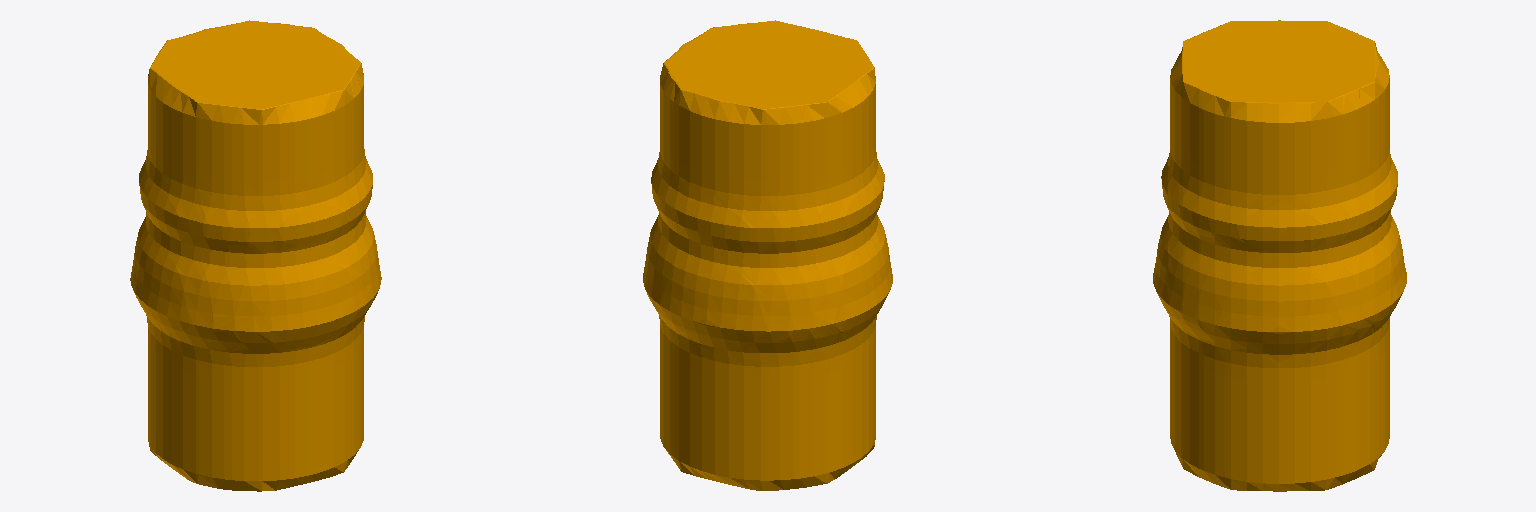
URDF robot description (cylinder_../../meshes/cylinders/cylinder_93.stl):
<?xml version="1.0" encoding="utf-8"?>  <robot name="cylinder_../../meshes/cylinders/cylinder_93.stl">   <link name="cylinder_../../meshes/cylinders/cylinder_93.stl">     <visual>       <geometry>         <mesh filename="../meshes/cylinders/cylinder_93.stl" scale="1 1 1"/>       </geometry>     </visual>     <collision>       <geometry>         <mesh filename="../meshes/cylinders/cylinder_93.stl" scale="1 1 1"/>       </geometry>     </collision>     <inertial>        <origin         xyz="0 0 0"         rpy="0 0 0" />       <mass value="0.5305589763157378"/>       <origin rpy="0 0 0" xyz="0 0 0"/>       <inertia ixx="0.0009227182282626991" ixy="1.054688341840124e-09" ixz="-1.4533150088451856e-08" iyy="0.0009227178327865238" iyz="-6.188332392801312e-09" izz="0.0003353019590793706"/>     </inertial>   </link>  </robot>

--- Facts derived from the render (not from the file) ---
The picture shows the robot from 3 angles, left to right: view 1: azimuth 30°, elevation 25°; view 2: azimuth 150°, elevation 25°; view 3: azimuth 270°, elevation 25°; orthographic projection.
Model cylinder_../../meshes/cylinders/cylinder_93.stl with 1 links and 0 joints (none), rooted at cylinder_../../meshes/cylinders/cylinder_93.stl, posed all joints at 0.
Links seen in each view (by area): view 1: cylinder_../../meshes/cylinders/cylinder_93.stl; view 2: cylinder_../../meshes/cylinders/cylinder_93.stl; view 3: cylinder_../../meshes/cylinders/cylinder_93.stl.
Boxes of the visible links, box(x1,y1,x2,y2) form: cylinder_../../meshes/cylinders/cylinder_93.stl: box(130, 20, 381, 491); cylinder_../../meshes/cylinders/cylinder_93.stl: box(643, 20, 892, 490); cylinder_../../meshes/cylinders/cylinder_93.stl: box(1153, 20, 1406, 491).
Size in the robot's own frame: 0.0799 by 0.0799 by 0.1349 metres.
1 mesh visuals loaded from 1 distinct referenced files (1 binary STL).